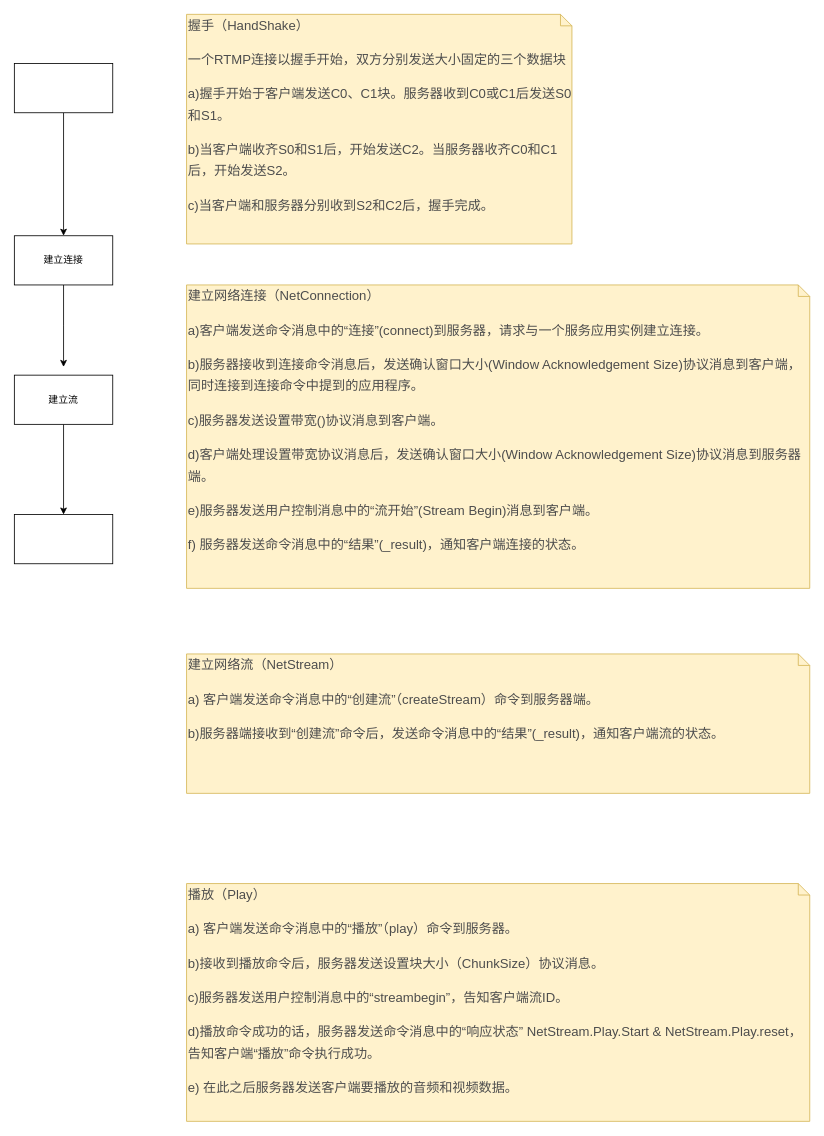
Some shapes in this 824 by 1136 pixel diagram are drawn without their labels. The shapes that lost their labels are listed below. From the top down, each one's box as (x1, y1, x2, y2) in pixels, then its label:
(14, 63, 113, 113): 握手
(14, 514, 113, 564): 播放
